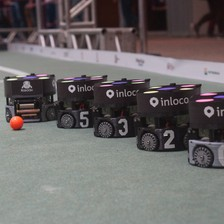ball: (7, 113, 25, 130)
robot: (136, 82, 196, 153), (90, 76, 141, 142), (185, 89, 224, 169), (1, 71, 57, 123), (55, 73, 96, 132)
